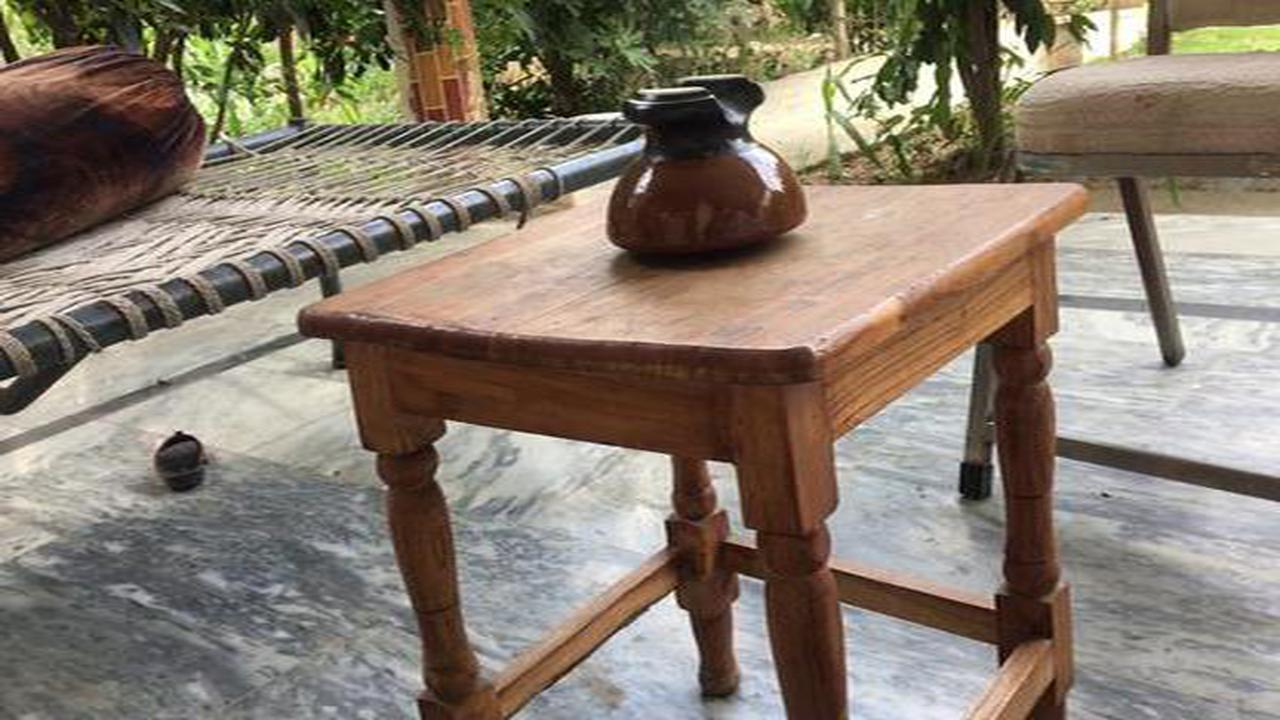insulator_pin: (594, 68, 822, 276)
